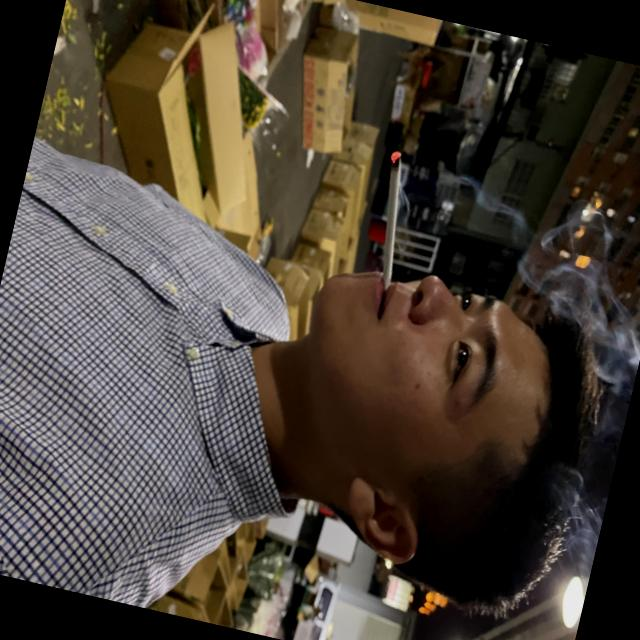smoke: (344, 129, 422, 301)
